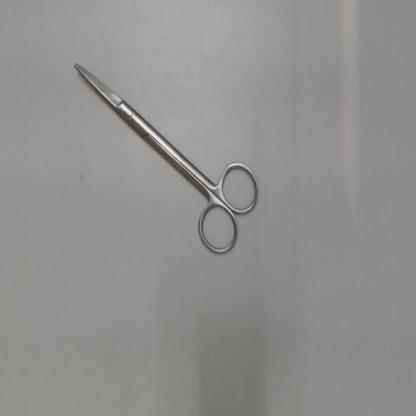Curved Mayo Scissors: (68, 55, 265, 261)
